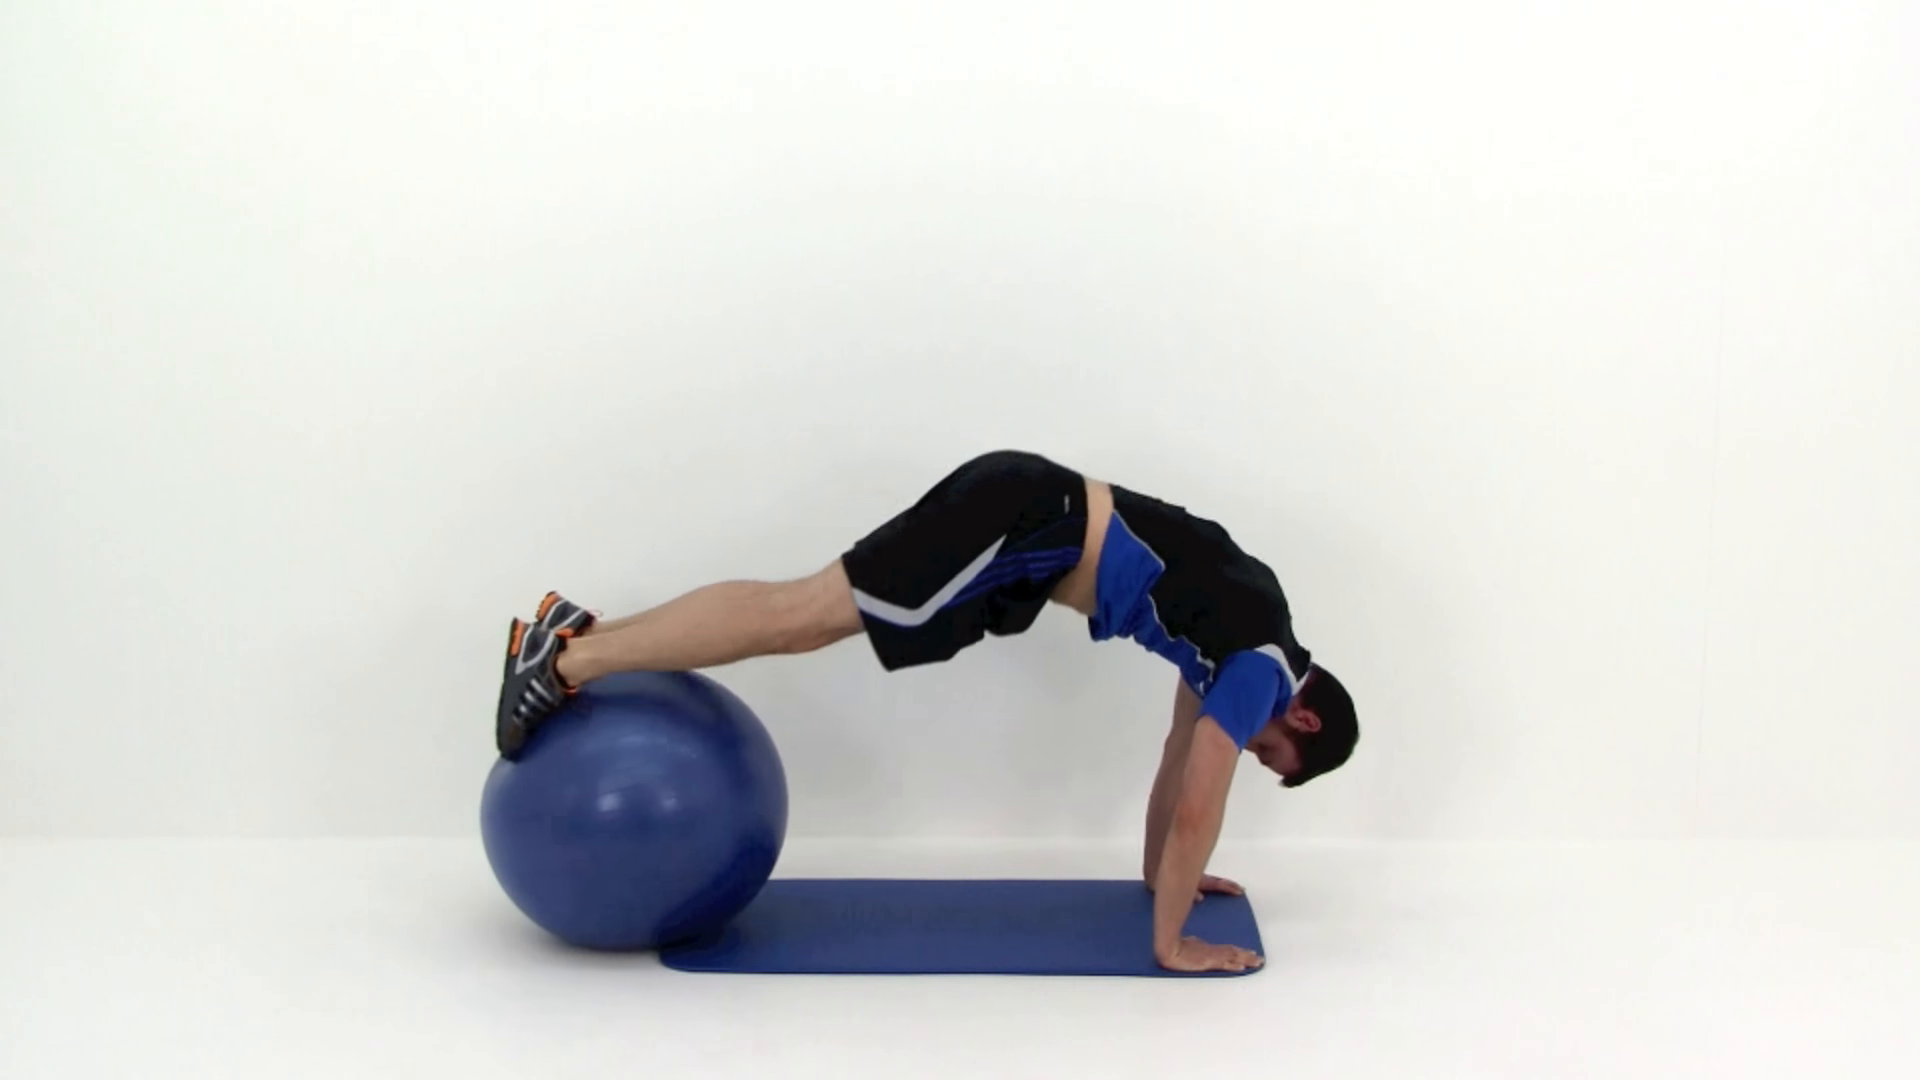yogaball: (458, 654, 808, 960)
